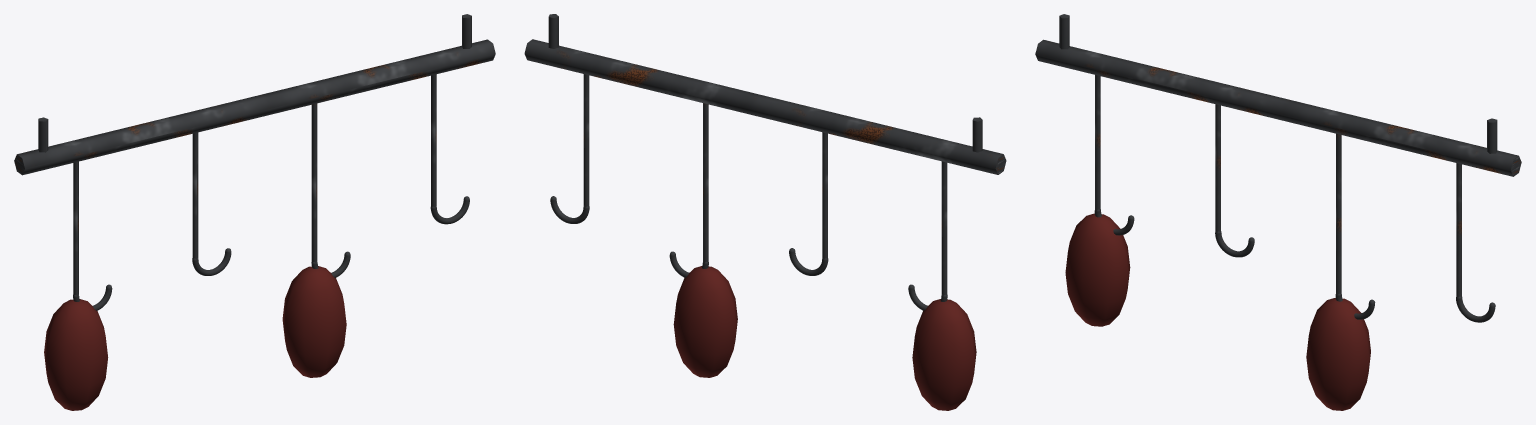
The model's file is meatHooks.glb.
3 renders of one model, left to right at view 1: azimuth 30°, elevation 25°; view 2: azimuth 150°, elevation 25°; view 3: azimuth 330°, elevation 25°, orthographic.
Visible parts, largest first — view 1: meatHooks; view 2: meatHooks; view 3: meatHooks.
Part boxes in pixels (x1,y1,x2,y2): meatHooks: (14,14,495,410); meatHooks: (524,14,1006,410); meatHooks: (1035,14,1521,410).
Size of the model in its own units: 1 by 0.6573 by 0.112.
Materials: 2 (1 with a texture image).
